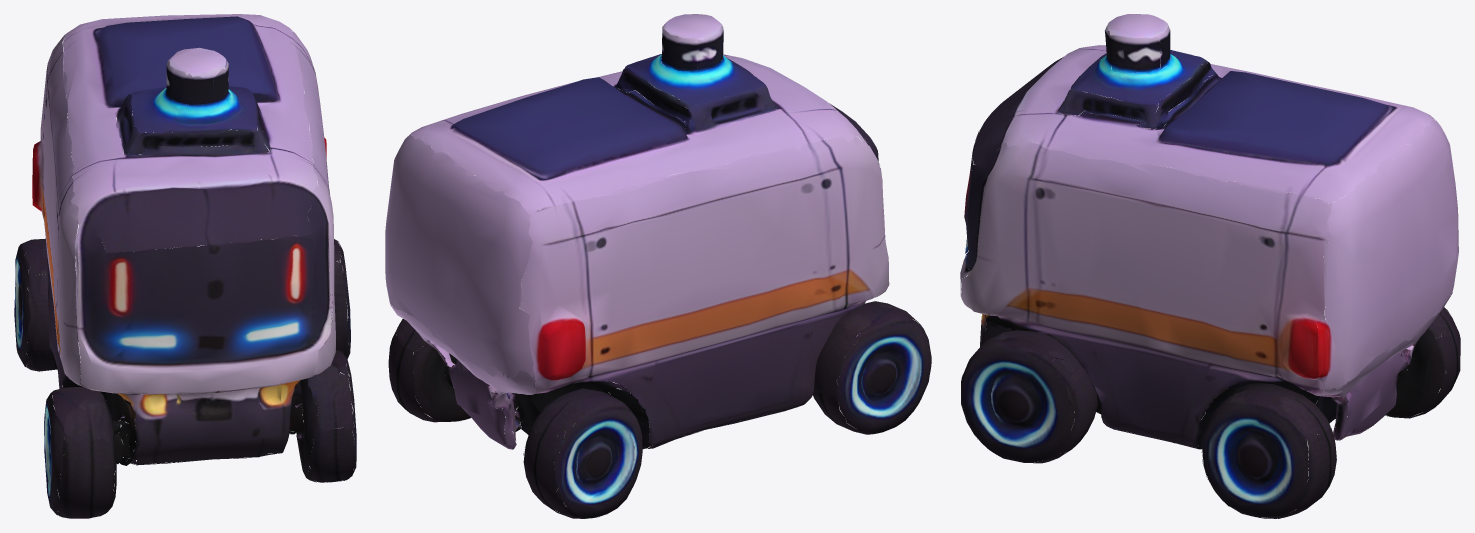
File: h3-delivery-pod.glb
The picture shows the model from 3 angles, left to right: view 1: azimuth 30°, elevation 25°; view 2: azimuth 150°, elevation 25°; view 3: azimuth 270°, elevation 25°; orthographic projection. The views are drawn at different scales.
Parts seen in each view (by area): view 1: tmp6smqswd0.ply; view 2: tmp6smqswd0.ply; view 3: tmp6smqswd0.ply.
Part boxes in pixels (x1,y1,x2,y2): tmp6smqswd0.ply: [14, 14, 356, 518]; tmp6smqswd0.ply: [385, 14, 931, 518]; tmp6smqswd0.ply: [960, 14, 1460, 518].
Bounding box in the file's own units: 1.93 × 1.75 × 2.
1 material, 1 textured.
